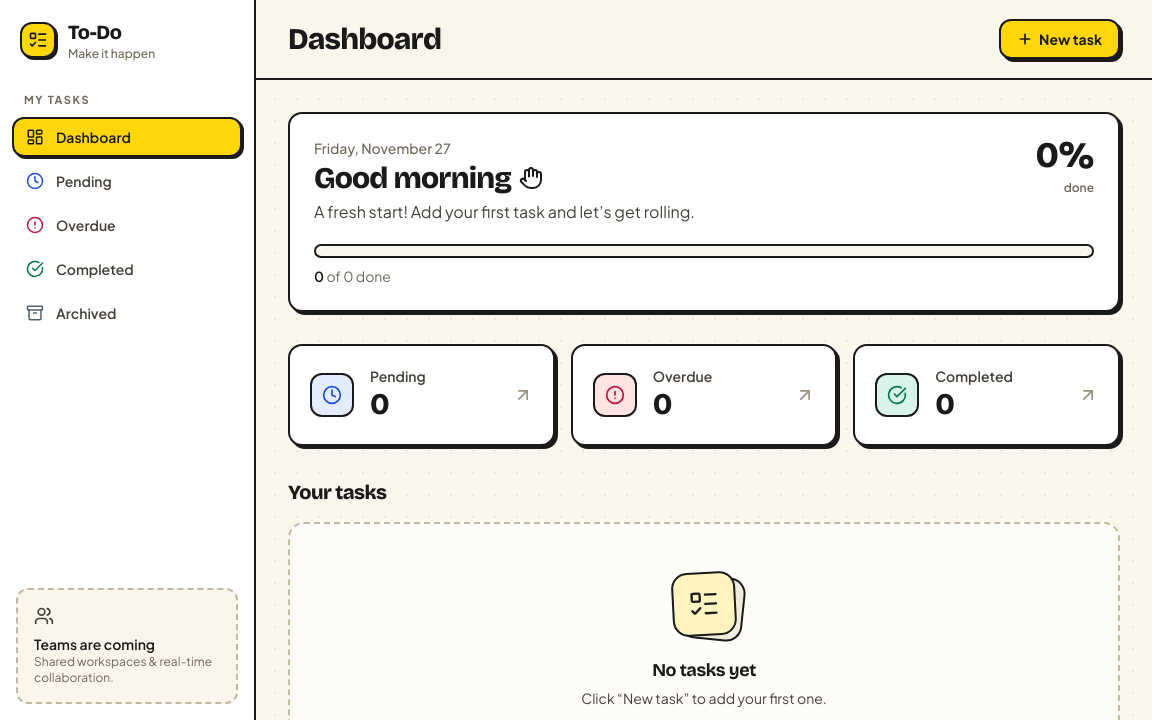
Scenario: target date › can be cleared before saving
Step 1. Click the button "New task" → (1060, 39), box x1=999 y1=19 x2=1120 y2=59
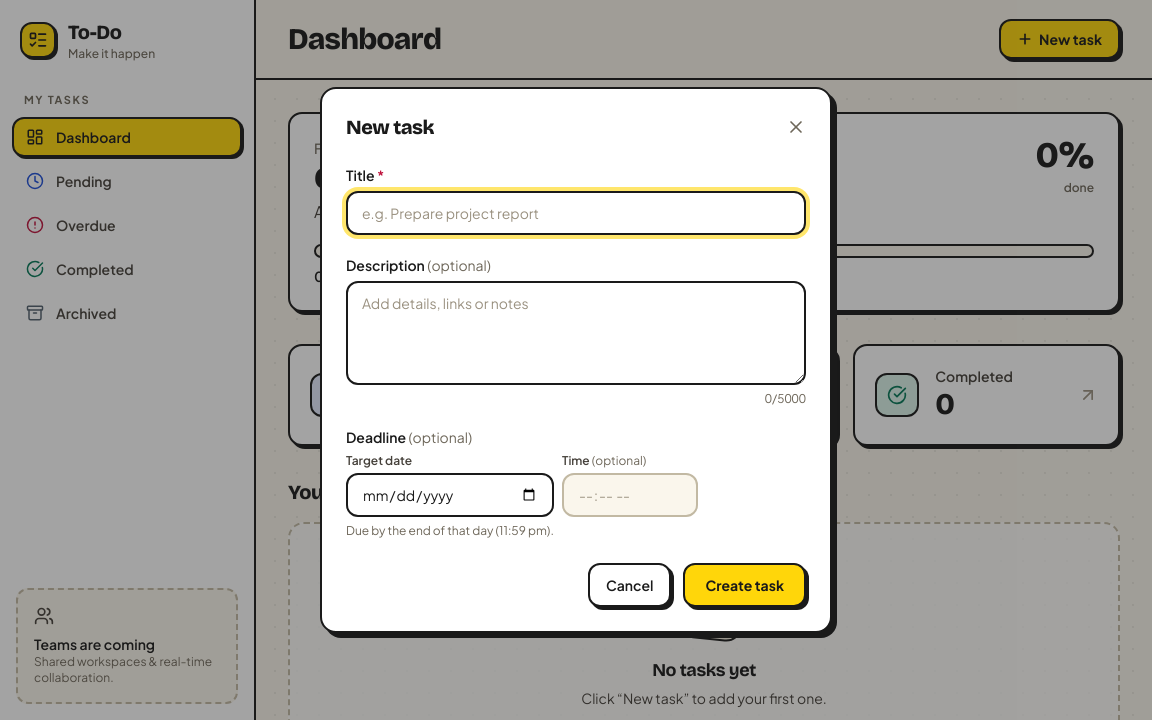
Step 2. Type "Changed my mind" into the field labelled "Title *" → (576, 213), box x1=346 y1=191 x2=806 y2=235
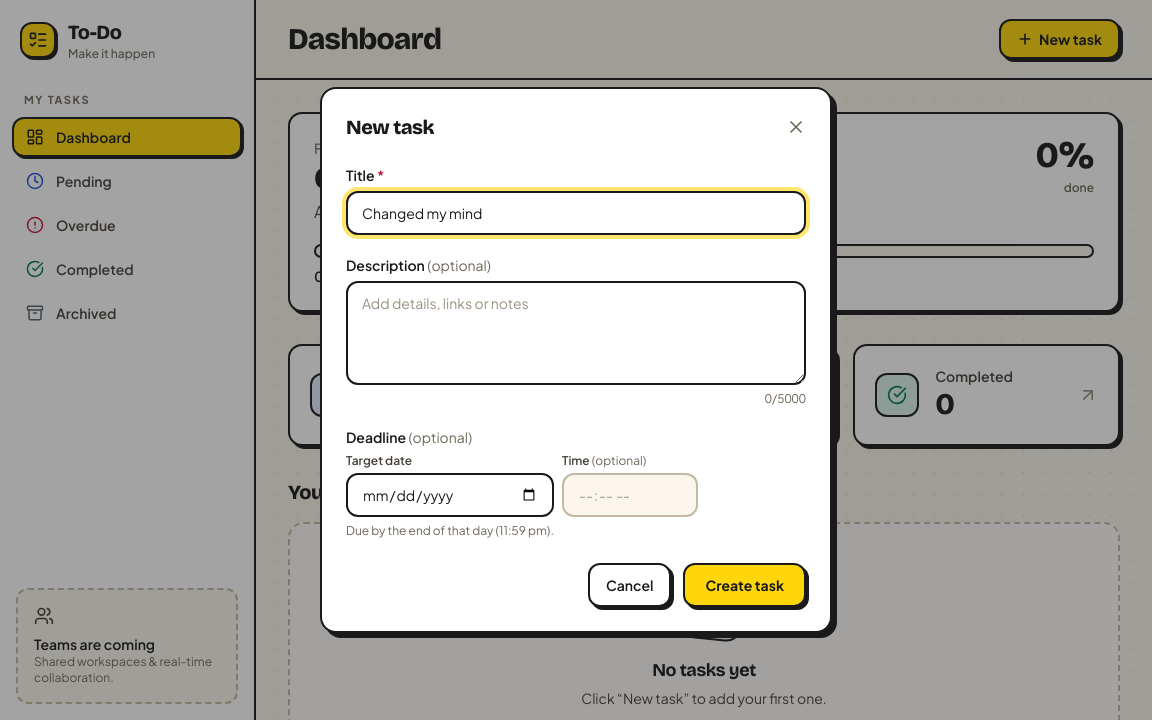
Step 3. Type "2099-06-15" into the date field labelled "Target date" → (450, 495), box x1=346 y1=473 x2=554 y2=517
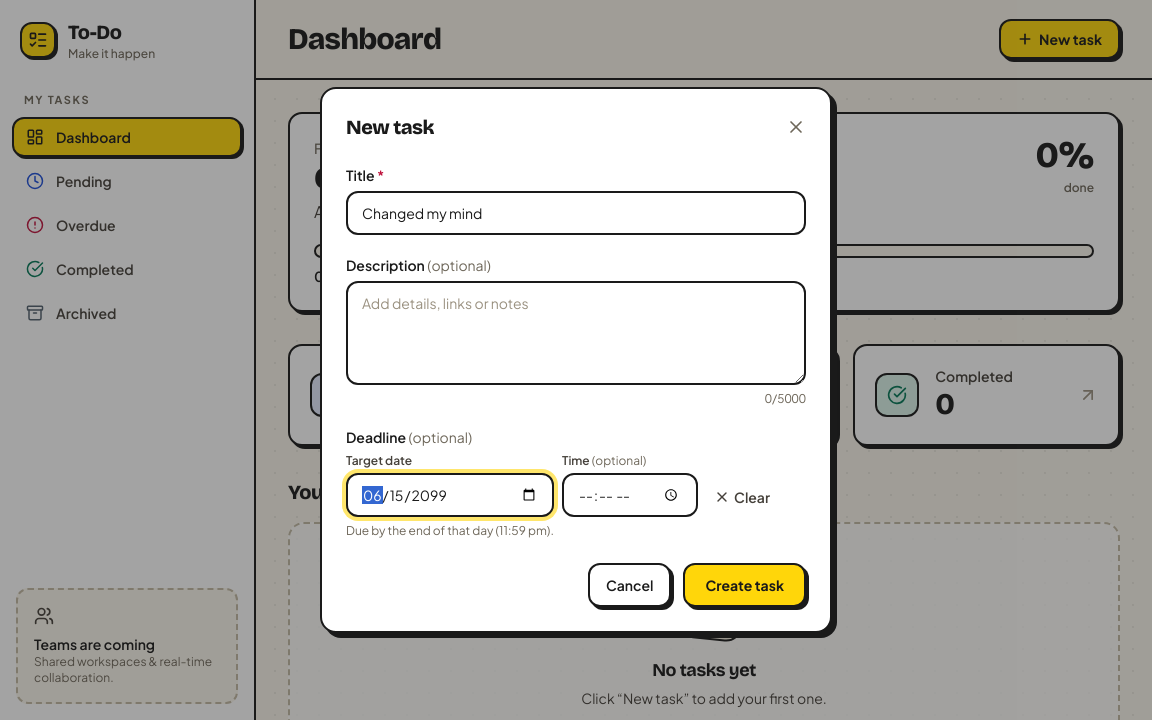
Step 4. Click the button with aria-label "Clear deadline" → (742, 497), box x1=706 y1=477 x2=778 y2=517
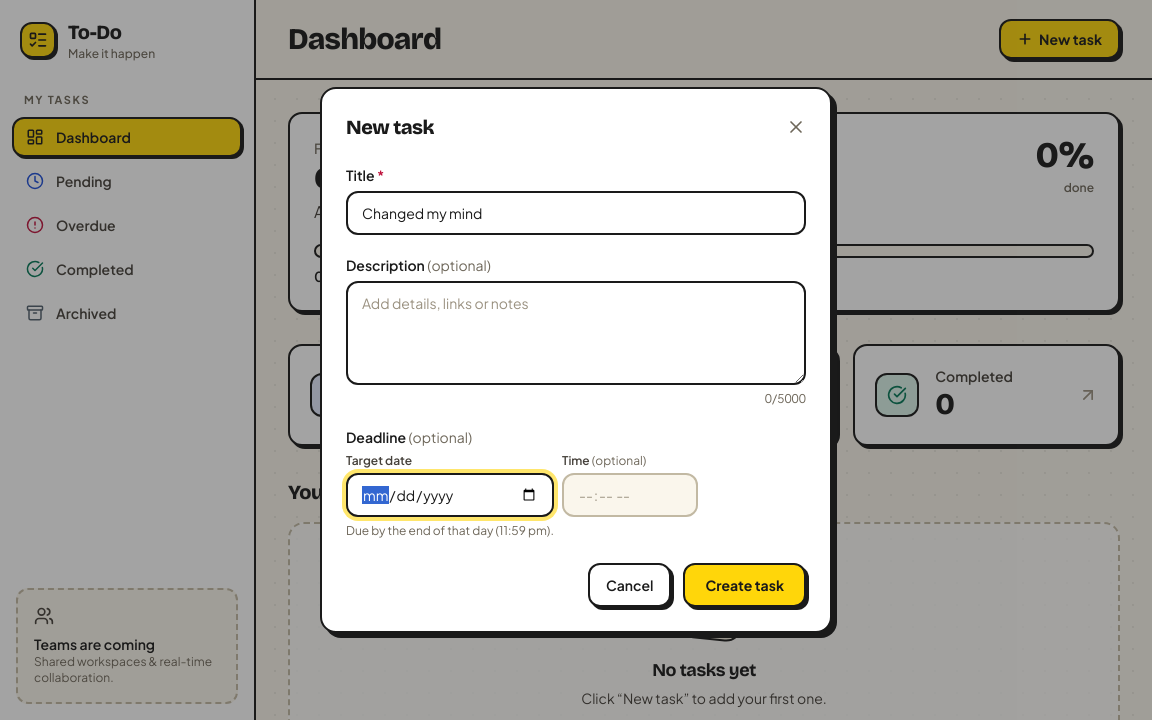
Result: the date field labelled "Target date" is empty at x1=346 y1=473 x2=554 y2=517
Step 5. Click the button "Create task" → (745, 585), box x1=684 y1=563 x2=806 y2=607
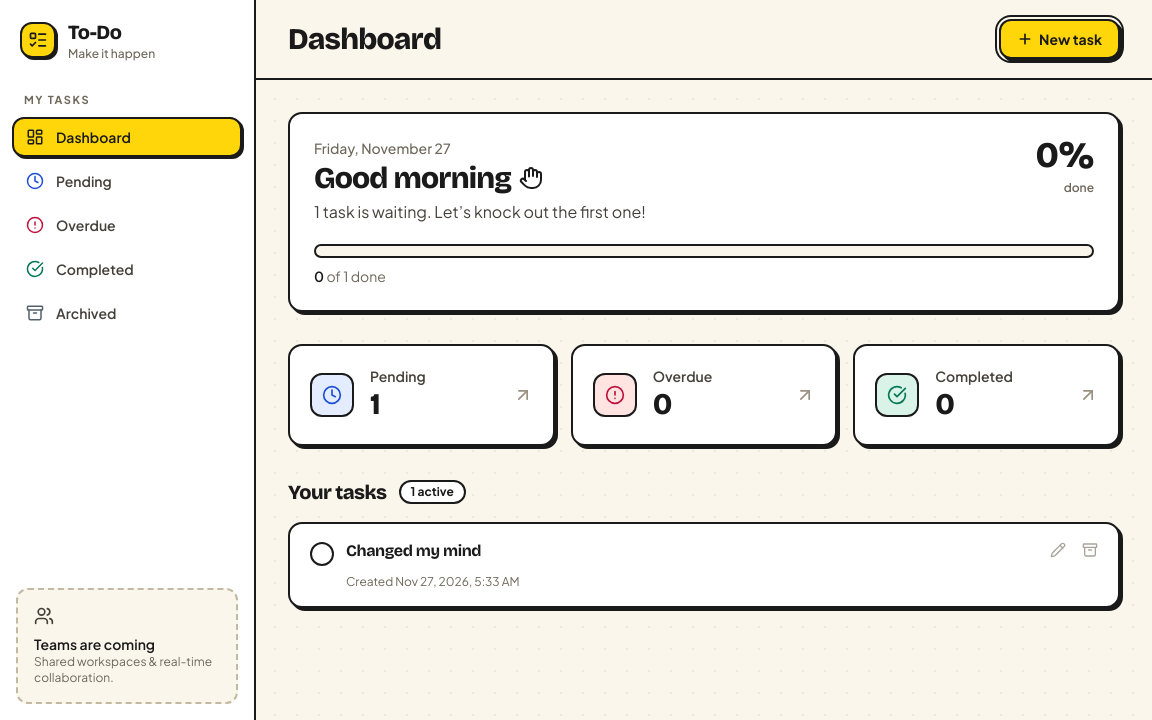
Result: the heading "Changed my mind" is shown at x1=346 y1=540 x2=481 y2=560
